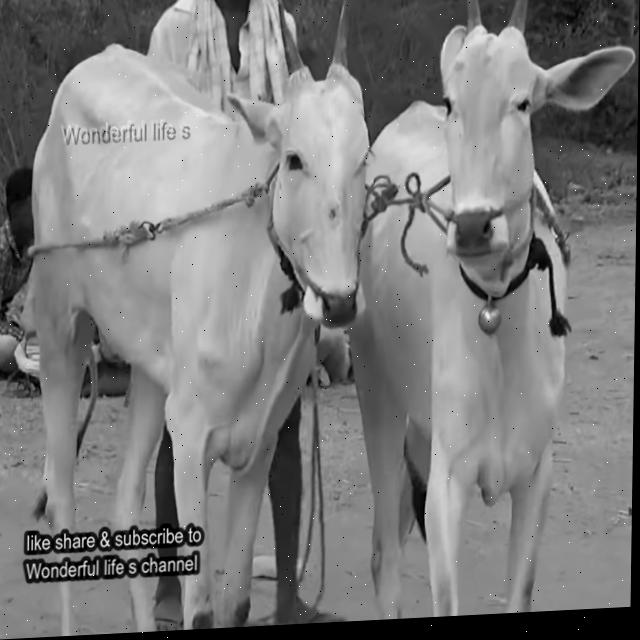Cow: (22, 0, 374, 635), (345, 0, 635, 619)
